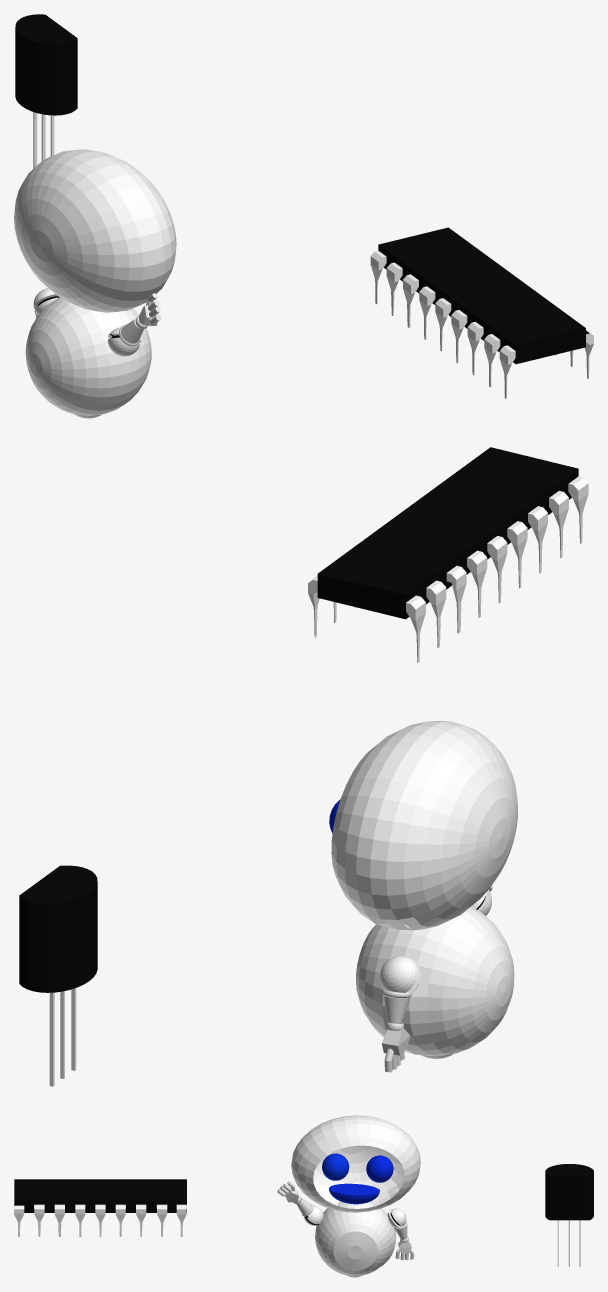
File: objectsPrueba.glb
3 views of the same model, one above another, from view 1: azimuth 30°, elevation 25°; view 2: azimuth 150°, elevation 25°; view 3: azimuth 270°, elevation 25° (orthographic). The views are drawn at different scales.
Visible parts, largest first — view 1: Sphere, Cube.004, Sphere.001, Cylinder.010; view 2: Sphere, Cube.004, Sphere.001, Cylinder.010, Sphere.004; view 3: Sphere, Cube.004, Sphere.001, Cylinder.010, Sphere.007, Sphere.002, Sphere.006, Sphere.004, Sphere.005.
Part boxes in pixels (x1,y1,x2,y2): Sphere: [14, 149, 176, 312]; Cube.004: [370, 227, 593, 398]; Sphere.001: [25, 297, 151, 418]; Cylinder.010: [15, 14, 77, 168]; Sphere: [331, 721, 517, 930]; Cube.004: [308, 447, 588, 662]; Sphere.001: [356, 906, 514, 1058]; Cylinder.010: [19, 865, 97, 1086]; Sphere.004: [380, 956, 420, 993]; Sphere: [291, 1115, 420, 1212]; Cube.004: [14, 1179, 186, 1236]; Sphere.001: [315, 1201, 396, 1277]; Cylinder.010: [545, 1164, 593, 1266]; Sphere.007: [329, 1183, 379, 1204]; Sphere.002: [366, 1155, 393, 1182]; Sphere.006: [322, 1153, 349, 1180]; Sphere.004: [387, 1208, 406, 1228]; Sphere.005: [304, 1205, 323, 1225].
Bounding box in the file's own units: 3.07 × 2.57 × 8.46.
